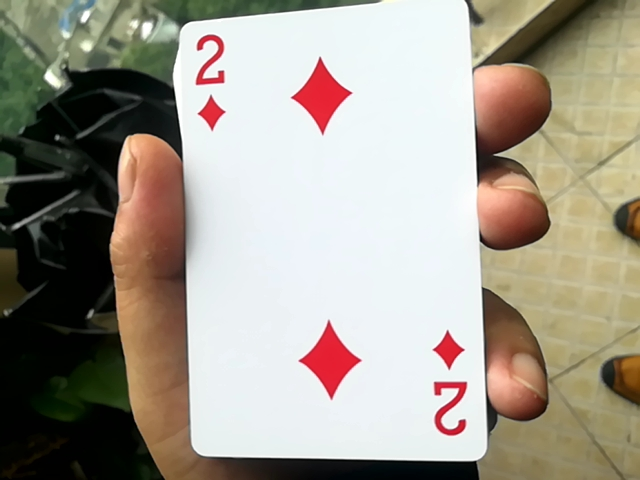fk 2: (158, 0, 486, 456)
